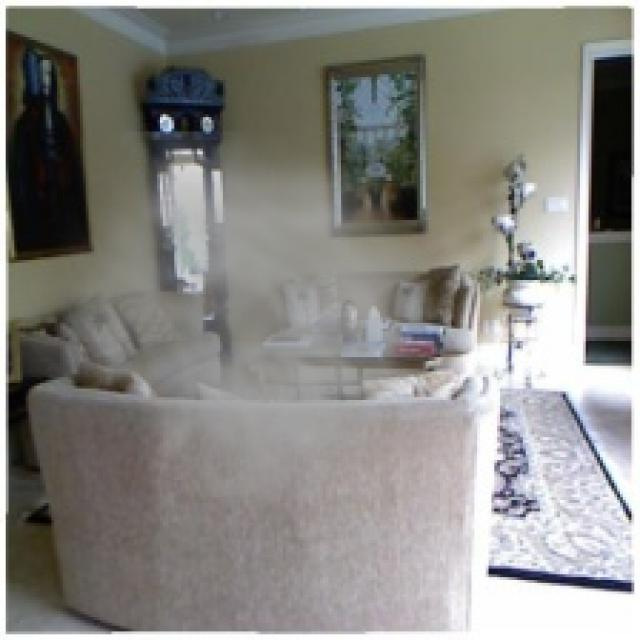Smoke: (46, 132, 468, 552)
